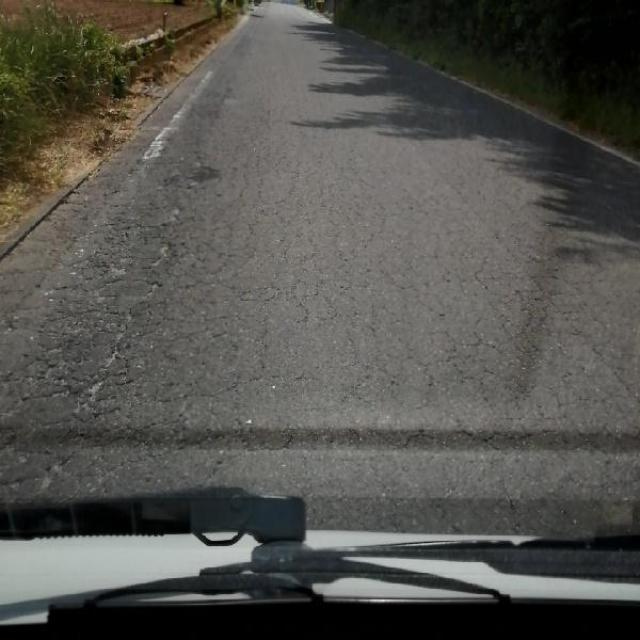Crack: (0, 101, 640, 527)
